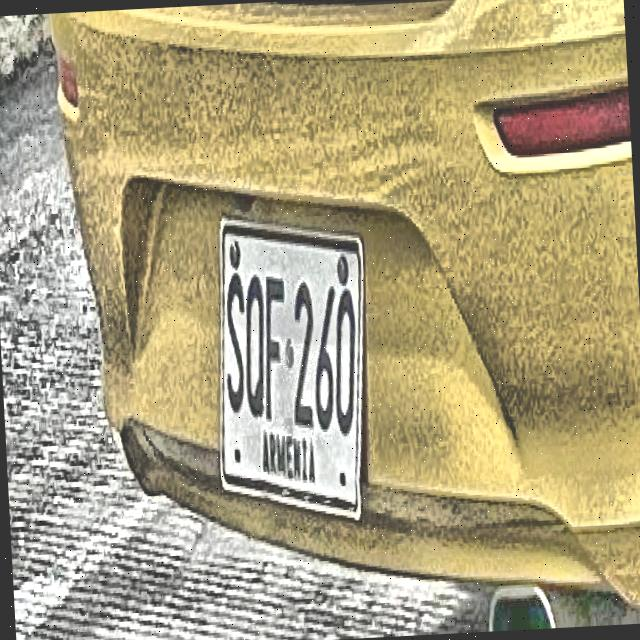plate: (223, 225, 362, 512)
